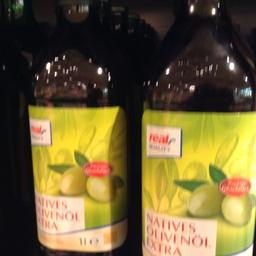oil: (137, 0, 254, 255), (26, 0, 129, 255)
